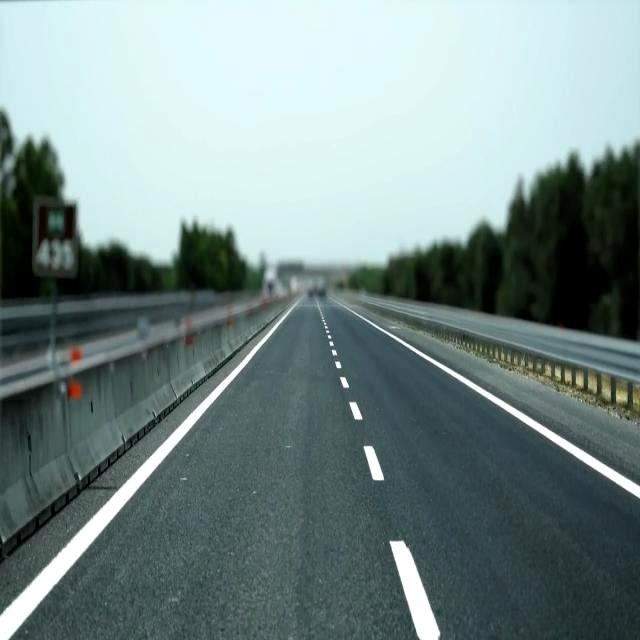lane: (0, 298, 301, 639), (340, 304, 640, 498), (391, 540, 440, 640), (364, 445, 384, 481), (351, 401, 362, 419)
road: (12, 298, 639, 639), (0, 349, 247, 609)
